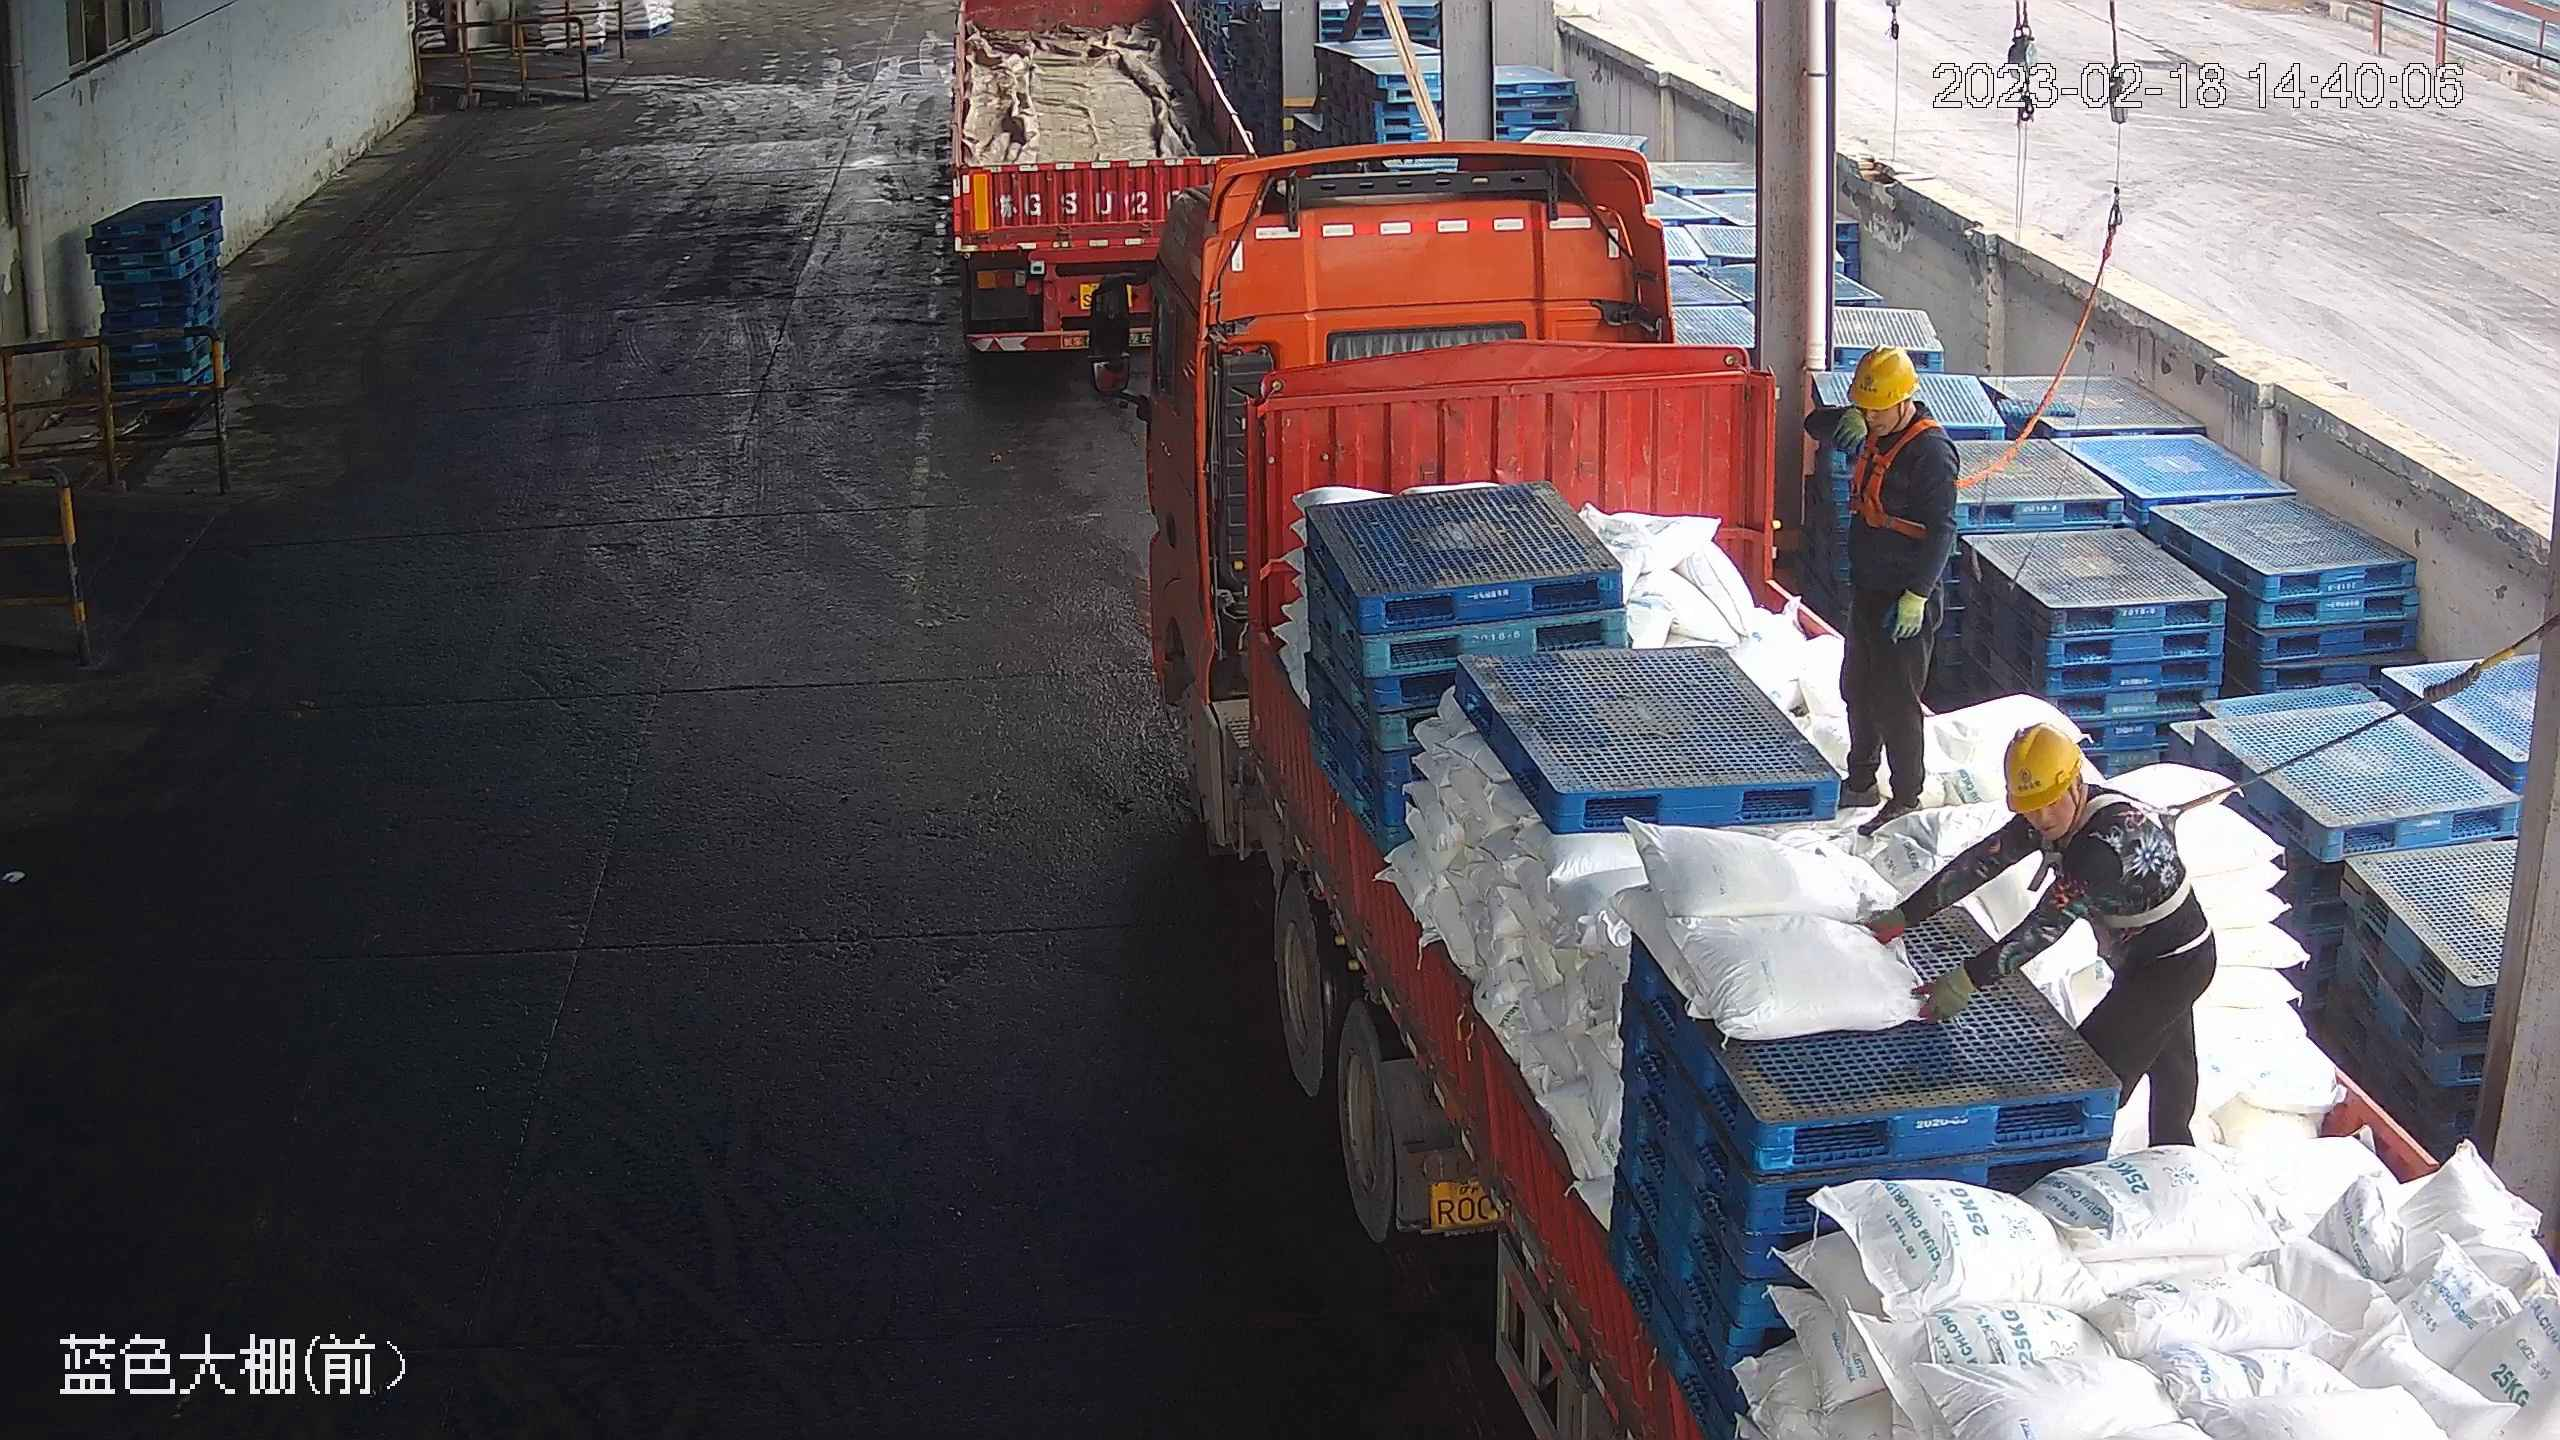belt: (2053, 787, 2206, 931), (1849, 419, 1958, 536)
head: (1994, 720, 2162, 882), (1828, 342, 1958, 489)
helmet: (1999, 720, 2087, 814), (1846, 340, 1923, 411)
people: (1859, 720, 2225, 1162), (1789, 340, 1963, 837)
truck: (1084, 151, 2553, 1440), (941, 4, 1271, 365)
